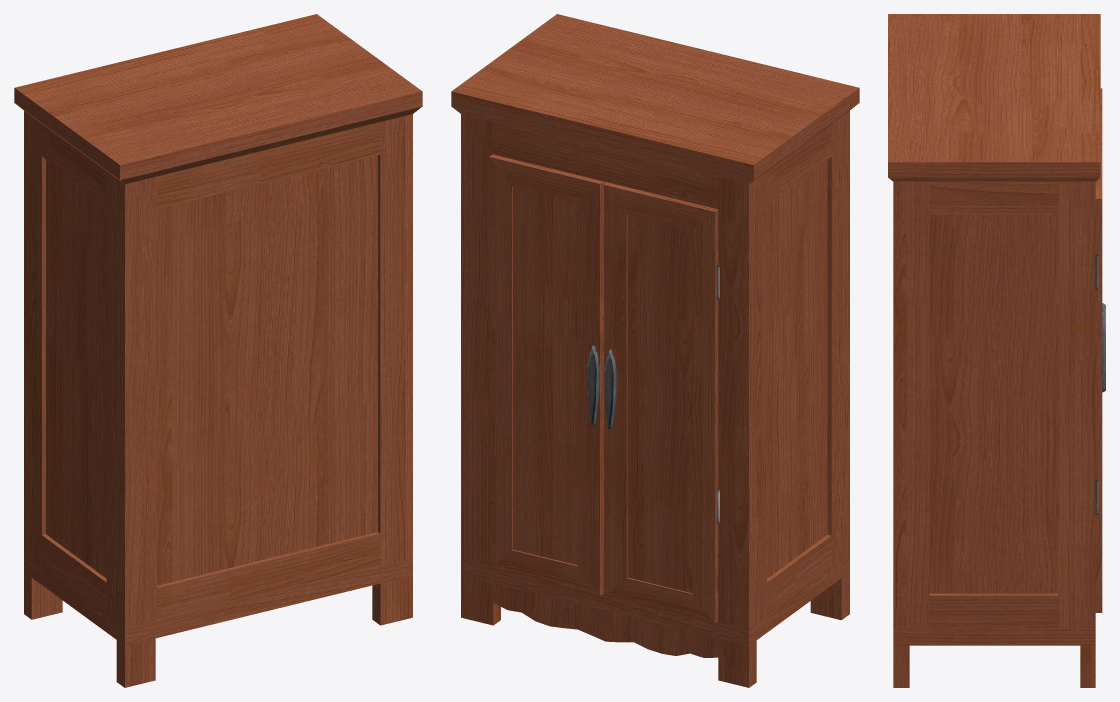
Rendered from dresser04.obj.
The picture shows the model from 3 angles, left to right: view 1: azimuth 30°, elevation 25°; view 2: azimuth 150°, elevation 25°; view 3: azimuth 270°, elevation 25°; orthographic projection.
Visible parts, largest first — view 1: mesh03; view 2: mesh03, mesh02, mesh01; view 3: mesh03, mesh02.
Boxes of the visible parts, x1,y1,x2,y2 form: mesh03: (14, 14, 422, 687); mesh03: (451, 14, 859, 687); mesh02: (489, 154, 605, 595); mesh01: (604, 182, 718, 623); mesh03: (888, 14, 1100, 687); mesh02: (1095, 144, 1105, 612).
Size of the model in its own units: 44.87 by 74.64 by 27.83.
Materials: 1 (1 with a texture image).
